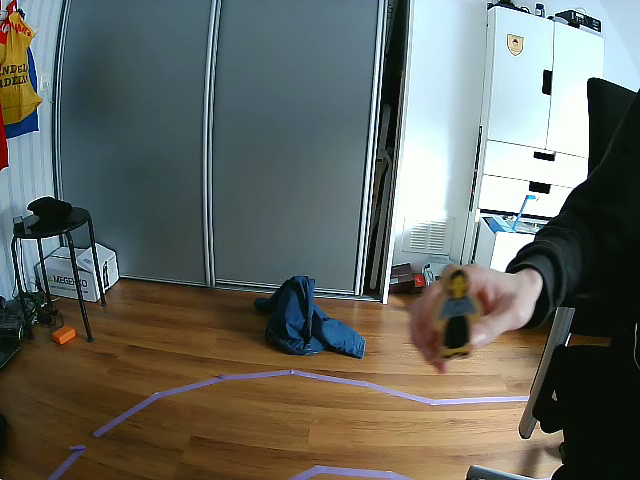mens: (431, 265, 480, 358)
